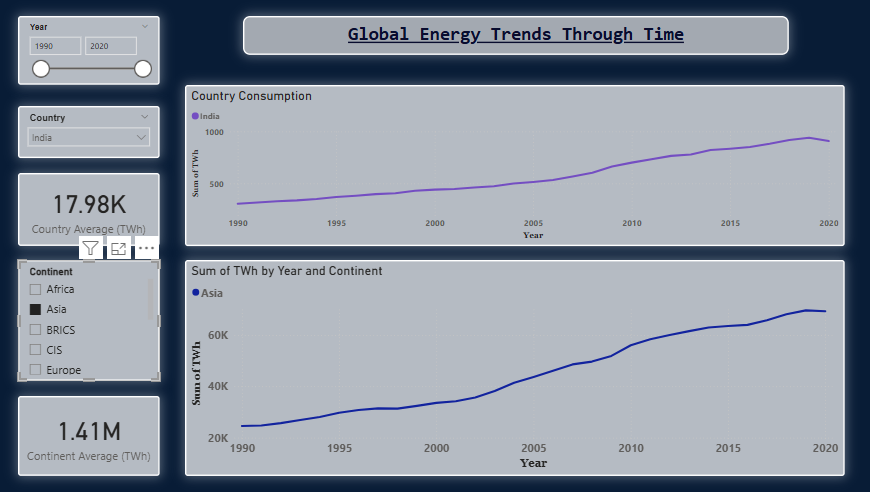

Layout of this report page (visuals, bound fields, positions):
{"tool":"powerbi","page":{"name":"Global Consumption","canvas":[1280,720],"ordinal":0},"visuals":[{"type":"textbox","box":[357.1,28.8,786.2,56.2],"z":0},{"type":"slicer","fields":{"Values":["Continent_Consumption_TWH.Year"]},"box":[33.1,28.8,204.5,99.4],"z":1000},{"type":"lineChart","title":"Country Consumption","fields":{"Y":["Sum(Country_Table.TWh)"],"Series":["Country_Table.Country"],"Category":["Country_Table.Year"]},"box":[273.6,128.2,950.4,231.8],"z":2000},{"type":"slicer","fields":{"Values":["Country_Table.Country"]},"box":[33.1,158.4,204.5,74.9],"z":3000},{"type":"card","fields":{"Values":["Country_Table.Country Average (TWh)"]},"box":[33.1,254.9,204.5,105.1],"z":4000},{"type":"lineChart","fields":{"Category":["Continent_Consumption_TWH.Year"],"Y":["Sum(Continent_Table.TWh)"],"Series":["Continent_Table.Continent"]},"box":[273.6,380.2,950.4,311],"z":5000},{"type":"slicer","fields":{"Values":["Continent_Table.Continent"]},"box":[33.1,380.2,204.5,174.2],"z":6000},{"type":"card","fields":{"Values":["Continent_Table.Continent Average (TWh)"]},"box":[33.1,576,204.5,115.2],"z":7000}]}

Visuals, with their boxes in screenshot pixels (x1, y1, x2, y2), scaled from the page's 1280x720 canvas onto the 870x492 screenshot:
textbox: {"left": 243, "top": 20, "right": 777, "bottom": 58}
slicer - Continent_Consumption_TWH.Year: {"left": 22, "top": 20, "right": 161, "bottom": 88}
"Country Consumption" lineChart: {"left": 186, "top": 88, "right": 832, "bottom": 246}
slicer - Country_Table.Country: {"left": 22, "top": 108, "right": 161, "bottom": 159}
card - Country_Table.Country Average (TWh): {"left": 22, "top": 174, "right": 161, "bottom": 246}
lineChart - Continent_Consumption_TWH.Year x Sum(Continent_Table.TWh): {"left": 186, "top": 260, "right": 832, "bottom": 472}
slicer - Continent_Table.Continent: {"left": 22, "top": 260, "right": 161, "bottom": 379}
card - Continent_Table.Continent Average (TWh): {"left": 22, "top": 394, "right": 161, "bottom": 472}
